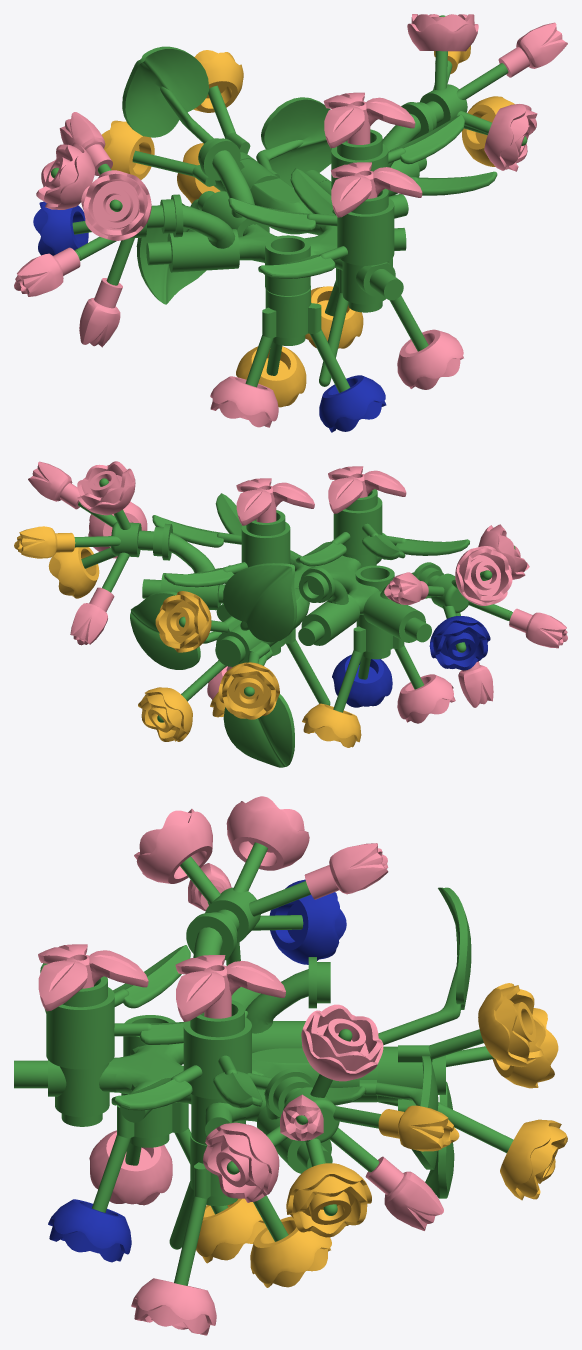
The model's file is Rosas amarilla.dae.
3 renders of one model, top to bottom at view 1: azimuth 30°, elevation 25°; view 2: azimuth 150°, elevation 25°; view 3: azimuth 270°, elevation 25°, orthographic. The views are drawn at different scales.
Visible parts, largest first — view 1: Inner-Node-Rosas___28_1_29__dot_io-4, Inner-Node-Rosas___28_1_29__dot_io-1, Inner-Node-Rosas___28_1_29__dot_io-30, Inner-Node-Rosas___28_1_29__dot_io-7, Inner-Node-Rosas___28_1_29__dot_io-2, Inner-Node-Rosas___28_1_29__dot_io-31, Inner-Node-Rosas___28_1_29__dot_io-23, Inner-Node-Rosas___28_1_29__dot_io-6, Inner-Node-Rosas___28_1_29__dot_io-33, Inner-Node-Rosas___28_1_29__dot_io-32, Inner-Node-Rosas___28_1_29__dot_io-16, Inner-Node-Rosas___28_1_29__dot_io-14 (+20 smaller); view 2: Inner-Node-Rosas___28_1_29__dot_io-4, Inner-Node-Rosas___28_1_29__dot_io-31, Inner-Node-Rosas___28_1_29__dot_io-30, Inner-Node-Rosas___28_1_29__dot_io-6, Inner-Node-Rosas___28_1_29__dot_io-1, Inner-Node-Rosas___28_1_29__dot_io-16, Inner-Node-Rosas___28_1_29__dot_io-2, Inner-Node-Rosas___28_1_29__dot_io-0, Inner-Node-Rosas___28_1_29__dot_io-21, Inner-Node-Rosas___28_1_29__dot_io-5, Inner-Node-Rosas___28_1_29__dot_io-10, Inner-Node-Rosas___28_1_29__dot_io-7 (+20 smaller); view 3: Inner-Node-Rosas___28_1_29__dot_io-1, Inner-Node-Rosas___28_1_29__dot_io-31, Inner-Node-Rosas___28_1_29__dot_io-30, Inner-Node-Rosas___28_1_29__dot_io-4, Inner-Node-Rosas___28_1_29__dot_io-5, Inner-Node-Rosas___28_1_29__dot_io-17, Inner-Node-Rosas___28_1_29__dot_io-24, Inner-Node-Rosas___28_1_29__dot_io-27, Inner-Node-Rosas___28_1_29__dot_io-33, Inner-Node-Rosas___28_1_29__dot_io-28, Inner-Node-Rosas___28_1_29__dot_io-21, Inner-Node-Rosas___28_1_29__dot_io-10 (+21 smaller).
Boxes of the visible parts, box(x1,y1,x2,y2) form: Inner-Node-Rosas___28_1_29__dot_io-4: box(122, 46, 331, 304); Inner-Node-Rosas___28_1_29__dot_io-1: box(238, 170, 408, 312); Inner-Node-Rosas___28_1_29__dot_io-30: box(228, 168, 394, 278); Inner-Node-Rosas___28_1_29__dot_io-7: box(146, 194, 239, 272); Inner-Node-Rosas___28_1_29__dot_io-2: box(245, 286, 350, 392); Inner-Node-Rosas___28_1_29__dot_io-31: box(331, 114, 497, 195); Inner-Node-Rosas___28_1_29__dot_io-23: box(81, 170, 151, 240); Inner-Node-Rosas___28_1_29__dot_io-6: box(197, 138, 269, 236); Inner-Node-Rosas___28_1_29__dot_io-33: box(323, 92, 415, 148); Inner-Node-Rosas___28_1_29__dot_io-32: box(331, 162, 422, 217); Inner-Node-Rosas___28_1_29__dot_io-16: box(420, 15, 527, 145); Inner-Node-Rosas___28_1_29__dot_io-14: box(397, 329, 463, 389); Inner-Node-Rosas___28_1_29__dot_io-4: box(130, 563, 296, 767); Inner-Node-Rosas___28_1_29__dot_io-31: box(152, 493, 290, 587); Inner-Node-Rosas___28_1_29__dot_io-30: box(296, 489, 469, 566); Inner-Node-Rosas___28_1_29__dot_io-6: box(298, 566, 359, 645); Inner-Node-Rosas___28_1_29__dot_io-1: box(216, 533, 394, 629); Inner-Node-Rosas___28_1_29__dot_io-16: box(74, 478, 153, 592); Inner-Node-Rosas___28_1_29__dot_io-2: box(333, 615, 423, 712); Inner-Node-Rosas___28_1_29__dot_io-0: box(218, 662, 279, 719); Inner-Node-Rosas___28_1_29__dot_io-21: box(455, 546, 512, 605); Inner-Node-Rosas___28_1_29__dot_io-5: box(157, 616, 270, 722); Inner-Node-Rosas___28_1_29__dot_io-10: box(155, 591, 211, 652); Inner-Node-Rosas___28_1_29__dot_io-7: box(363, 562, 443, 642); Inner-Node-Rosas___28_1_29__dot_io-1: box(14, 1015, 319, 1145); Inner-Node-Rosas___28_1_29__dot_io-31: box(111, 1000, 366, 1110); Inner-Node-Rosas___28_1_29__dot_io-30: box(40, 945, 248, 1069); Inner-Node-Rosas___28_1_29__dot_io-4: box(329, 887, 471, 1198); Inner-Node-Rosas___28_1_29__dot_io-5: box(377, 1029, 547, 1167); Inner-Node-Rosas___28_1_29__dot_io-17: box(180, 842, 310, 965); Inner-Node-Rosas___28_1_29__dot_io-24: box(301, 1004, 383, 1081); Inner-Node-Rosas___28_1_29__dot_io-27: box(286, 1163, 371, 1237); Inner-Node-Rosas___28_1_29__dot_io-33: box(175, 955, 285, 1021); Inner-Node-Rosas___28_1_29__dot_io-28: box(203, 1122, 279, 1202); Inner-Node-Rosas___28_1_29__dot_io-21: box(226, 796, 309, 870); Inner-Node-Rosas___28_1_29__dot_io-10: box(478, 983, 545, 1067).
Size of the model in its own units: 236 by 119 by 160.
